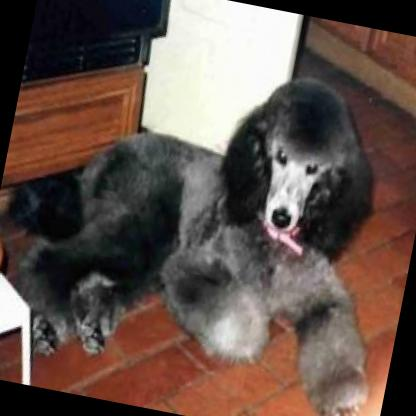standard_poodle: (0, 21, 416, 416)
